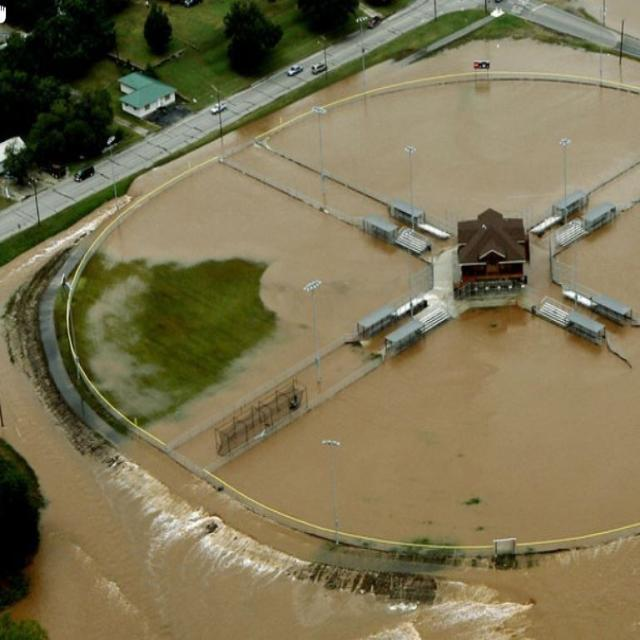flooded_areas: (242, 46, 637, 624)
